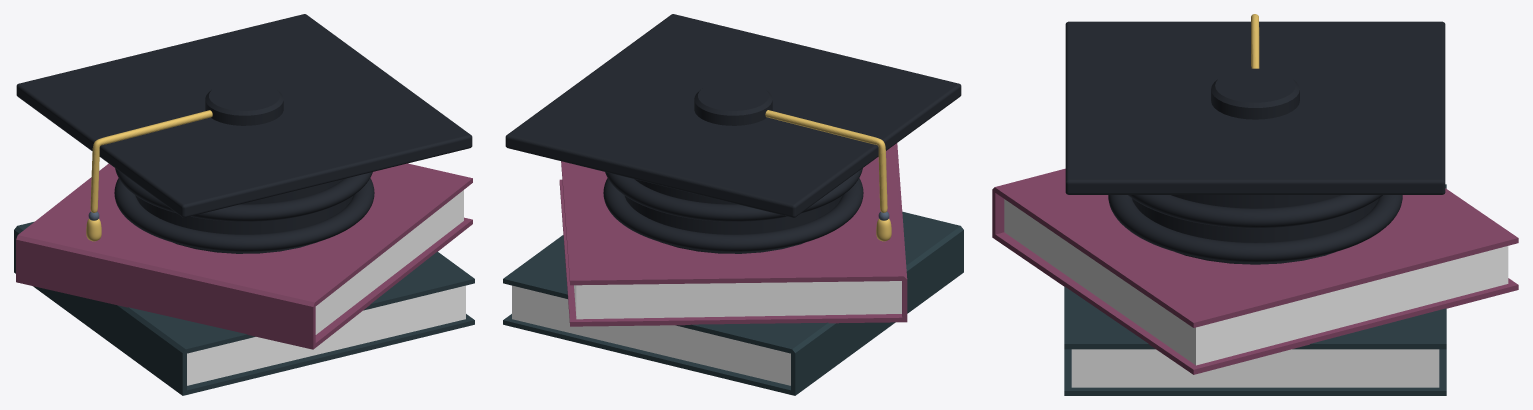
The model's file is book-stack.glb.
3 views of the same model, side by side, from view 1: azimuth 30°, elevation 25°; view 2: azimuth 150°, elevation 25°; view 3: azimuth 270°, elevation 25° (orthographic). The views are drawn at different scales.
Visible parts, largest first — view 1: Cylinder.001_4, Cube.001_3, Cube_0, Vert.001_6; view 2: Cylinder.001_4, Cube.001_3, Cube_0, Vert.001_6; view 3: Cylinder.001_4, Cube.001_3, Cube_0, Vert.001_6.
Boxes of the visible parts, left/top/right/bottom form: Cylinder.001_4: left=16, top=14, right=472, bottom=253; Cube.001_3: left=16, top=163, right=472, bottom=349; Cube_0: left=14, top=221, right=474, bottom=395; Vert.001_6: left=86, top=110, right=212, bottom=241; Cylinder.001_4: left=505, top=14, right=961, bottom=253; Cube.001_3: left=559, top=143, right=907, bottom=326; Cube_0: left=503, top=211, right=963, bottom=395; Vert.001_6: left=765, top=110, right=891, bottom=241; Cylinder.001_4: left=1065, top=21, right=1445, bottom=264; Cube.001_3: left=992, top=168, right=1518, bottom=374; Cube_0: left=1064, top=184, right=1446, bottom=395; Vert.001_6: left=1251, top=14, right=1259, bottom=68.
Size of the model in its own units: 2.75 by 1.33 by 2.75.
